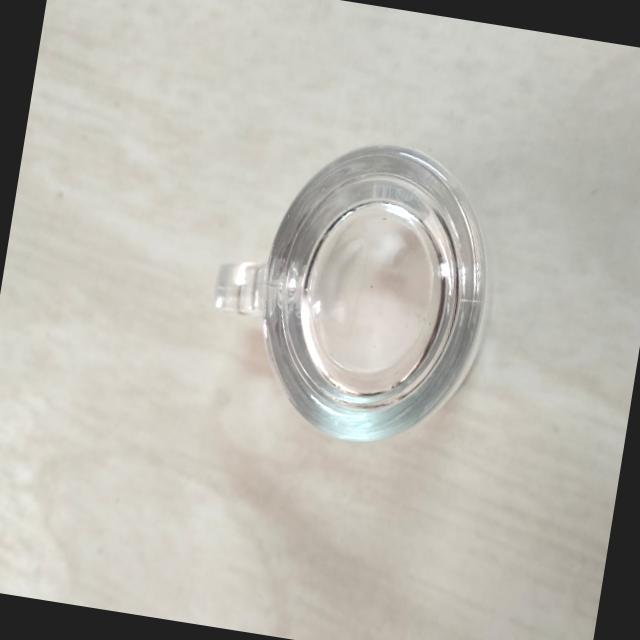glass-VX4N: (196, 123, 514, 460)
